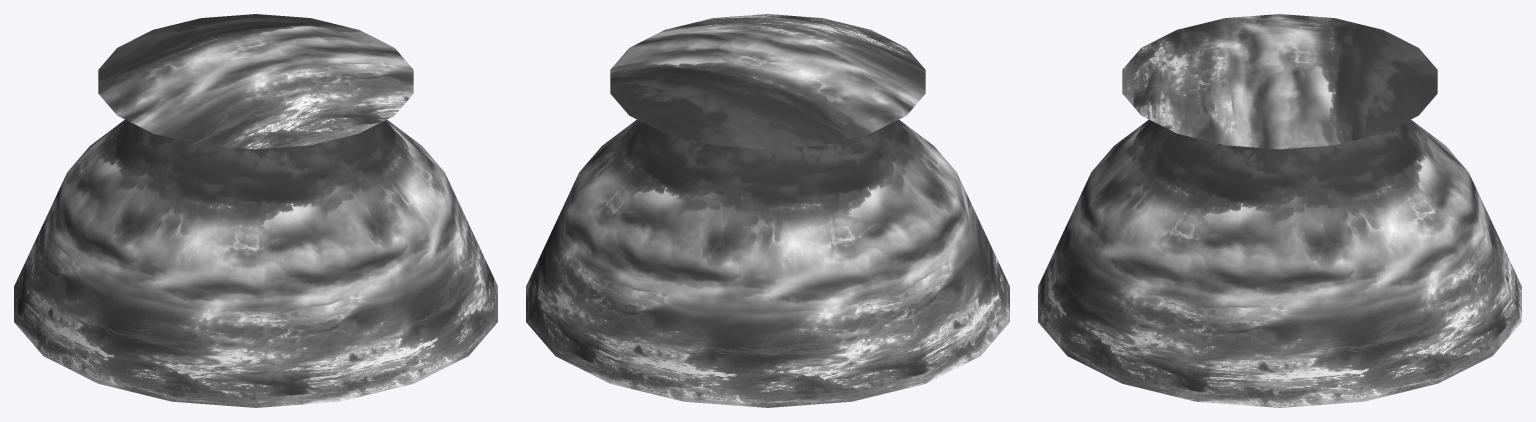
The model's file is weather01.FBX.
3 renders of one model, left to right at view 1: azimuth 30°, elevation 25°; view 2: azimuth 150°, elevation 25°; view 3: azimuth 270°, elevation 25°, orthographic.
Parts seen in each view (by area): view 1: Cylinder001, Cylinder002; view 2: Cylinder001, Cylinder002; view 3: Cylinder001, Cylinder002.
Part boxes in pixels (left/top/right/bottom): Cylinder001: left=14, top=119, right=497, bottom=407; Cylinder002: left=98, top=14, right=413, bottom=149; Cylinder001: left=526, top=119, right=1009, bottom=407; Cylinder002: left=610, top=14, right=925, bottom=149; Cylinder001: left=1038, top=119, right=1521, bottom=407; Cylinder002: left=1122, top=14, right=1437, bottom=149.
Bounding box in the file's own units: 64397 × 36153 × 63418.
